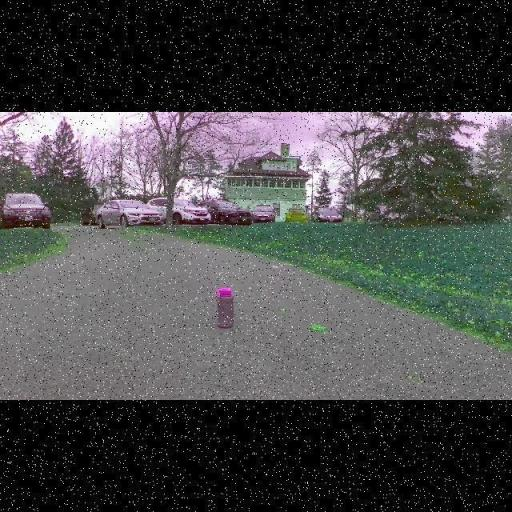bottle: (214, 288, 235, 330)
